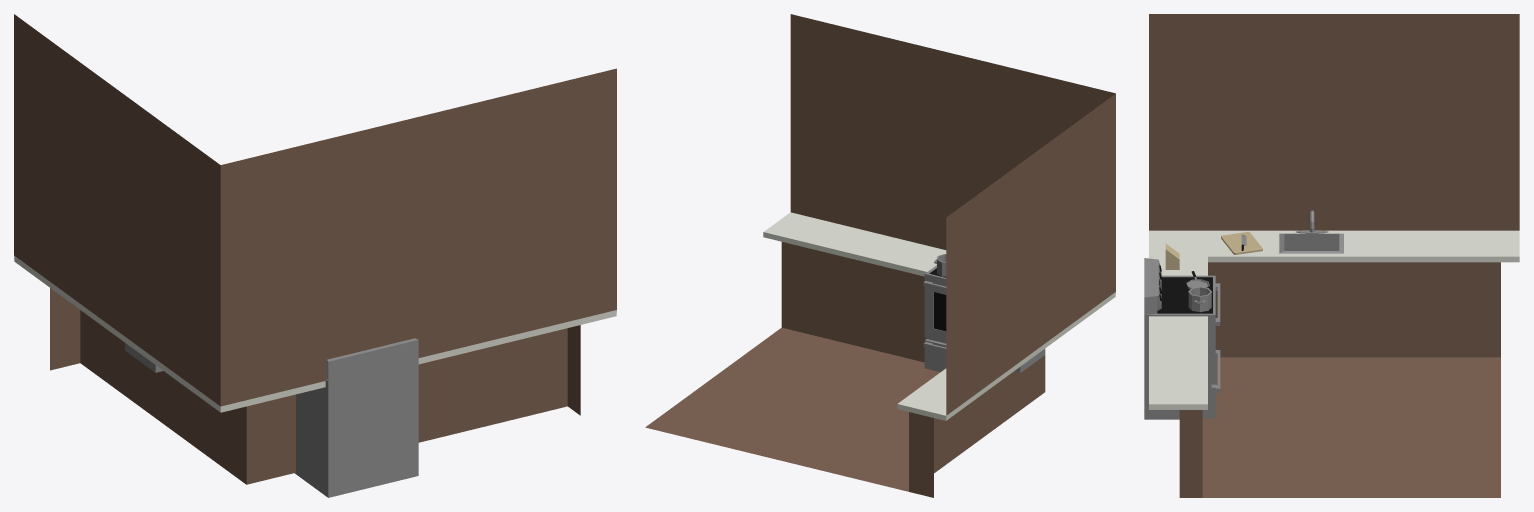
File: KitchenBackground.fbx
3 views of the same model, side by side, from view 1: azimuth 30°, elevation 25°; view 2: azimuth 150°, elevation 25°; view 3: azimuth 270°, elevation 25° (orthographic). The views are drawn at different scales.
Visible parts, largest first — view 1: backsplash, Oven; view 2: backsplash, Oven; view 3: backsplash, Oven, cuttingBoard, Pot.
Boxes of the visible parts, x1,y1,x2,y2 form: backsplash: (14, 14, 616, 484); Oven: (294, 338, 418, 497); backsplash: (645, 14, 1115, 497); Oven: (923, 265, 946, 371); backsplash: (1149, 14, 1519, 497); Oven: (1144, 258, 1220, 419); cuttingBoard: (1221, 232, 1262, 254); Pot: (1188, 286, 1211, 312).
Bounding box in the file's own units: 2662 × 2290 × 2433.
